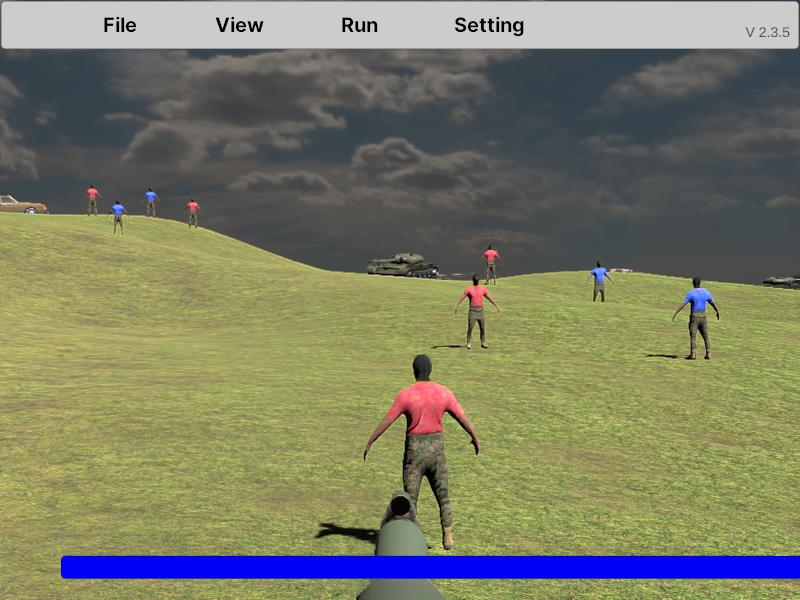Human: (363, 353, 479, 553), (673, 275, 719, 361), (455, 273, 500, 350), (587, 260, 614, 311)
Tank: (368, 253, 438, 283)
car: (0, 193, 48, 217)
